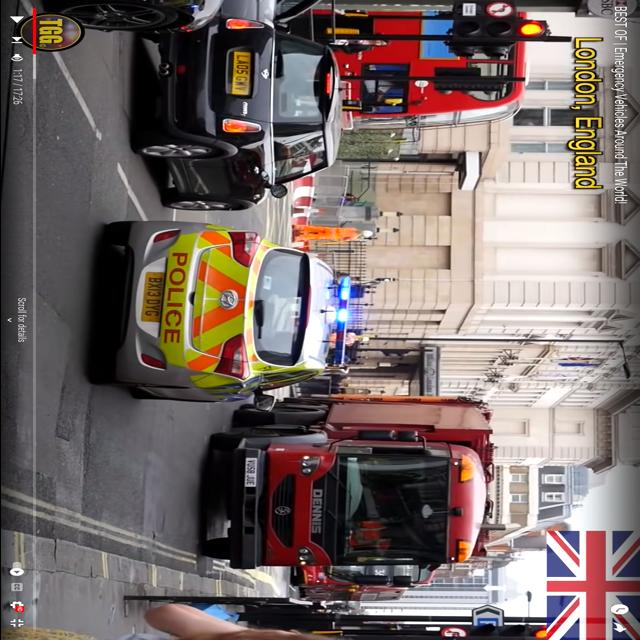emergency-vehicles: (87, 209, 366, 419)
